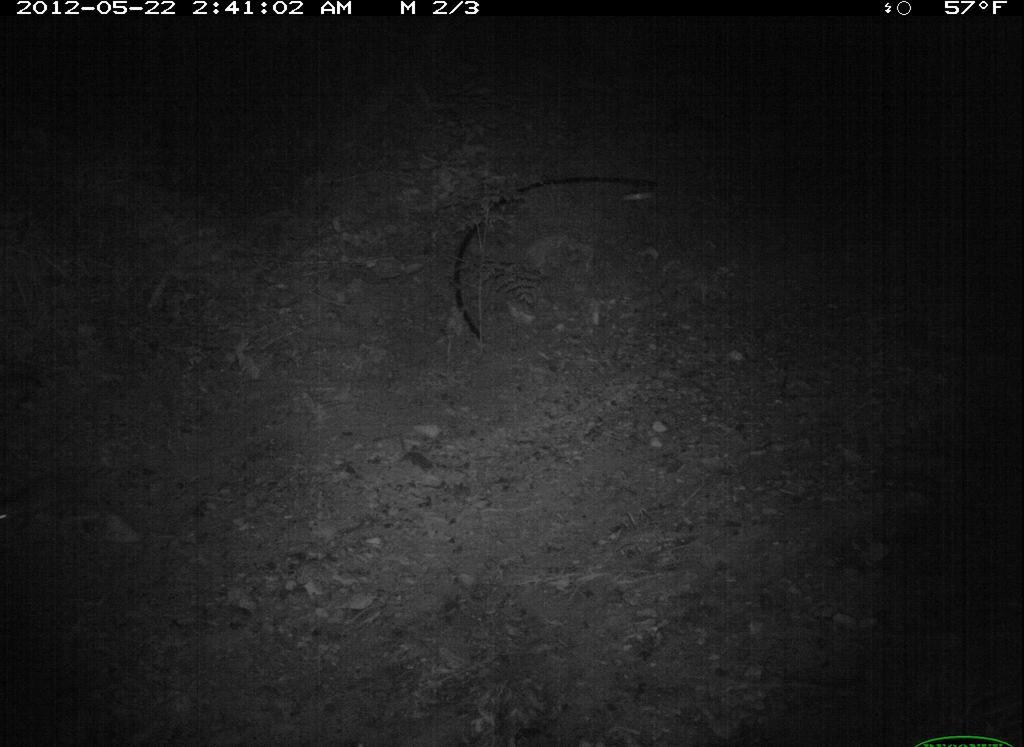opossum: (1, 474, 102, 543)
